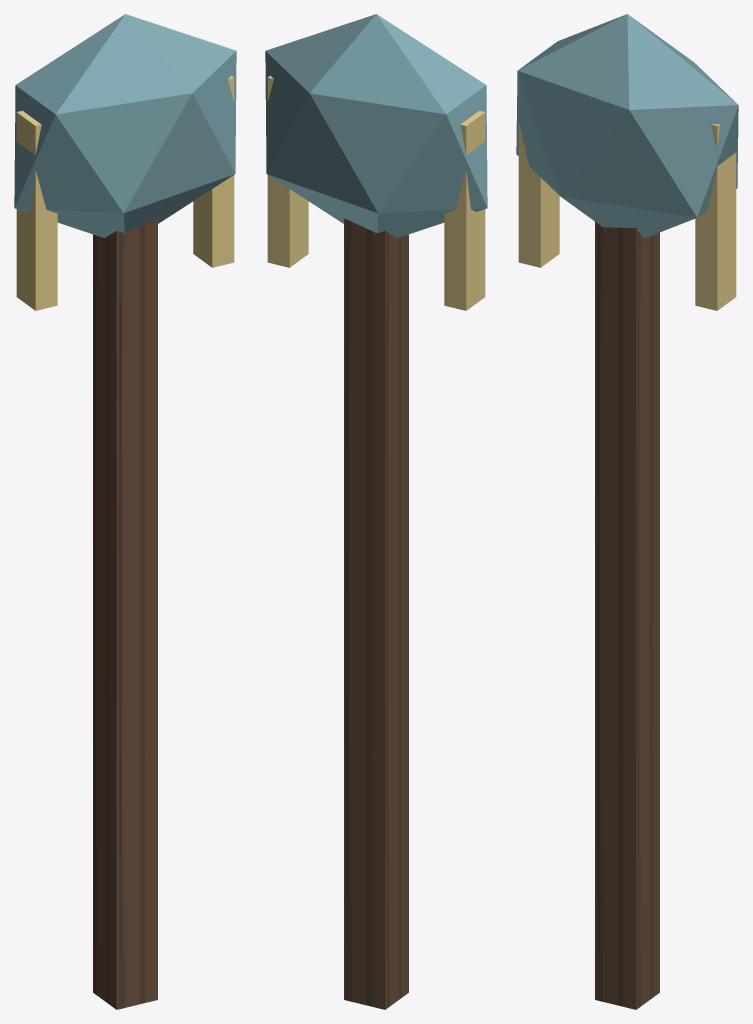
Rendered from staff_tier3.glb.
3 renders of one model, left to right at view 1: azimuth 30°, elevation 25°; view 2: azimuth 150°, elevation 25°; view 3: azimuth 330°, elevation 25°, orthographic.
Parts seen in each view (by area): view 1: Shaft.002, Crown.002, Prong.004, Prong.005; view 2: Shaft.002, Crown.002, Prong.004, Prong.005; view 3: Shaft.002, Crown.002, Prong.005, Prong.004.
Part boxes in pixels (x1,y1,x2,y2): Shaft.002: (93, 218, 157, 1009); Crown.002: (14, 14, 236, 237); Prong.004: (16, 110, 57, 310); Prong.005: (193, 75, 234, 267); Shaft.002: (344, 218, 408, 1009); Crown.002: (265, 14, 487, 237); Prong.004: (444, 110, 485, 310); Prong.005: (267, 75, 308, 267); Shaft.002: (595, 222, 659, 1009); Crown.002: (516, 14, 738, 238); Prong.005: (695, 124, 736, 310); Prong.004: (518, 122, 559, 267).
Size of the model in its own units: 0.4025 by 1.7 by 0.2042.
3 materials, 1 textured.
